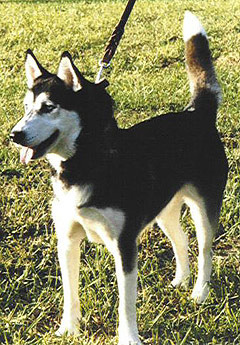dog: (9, 9, 231, 344)
